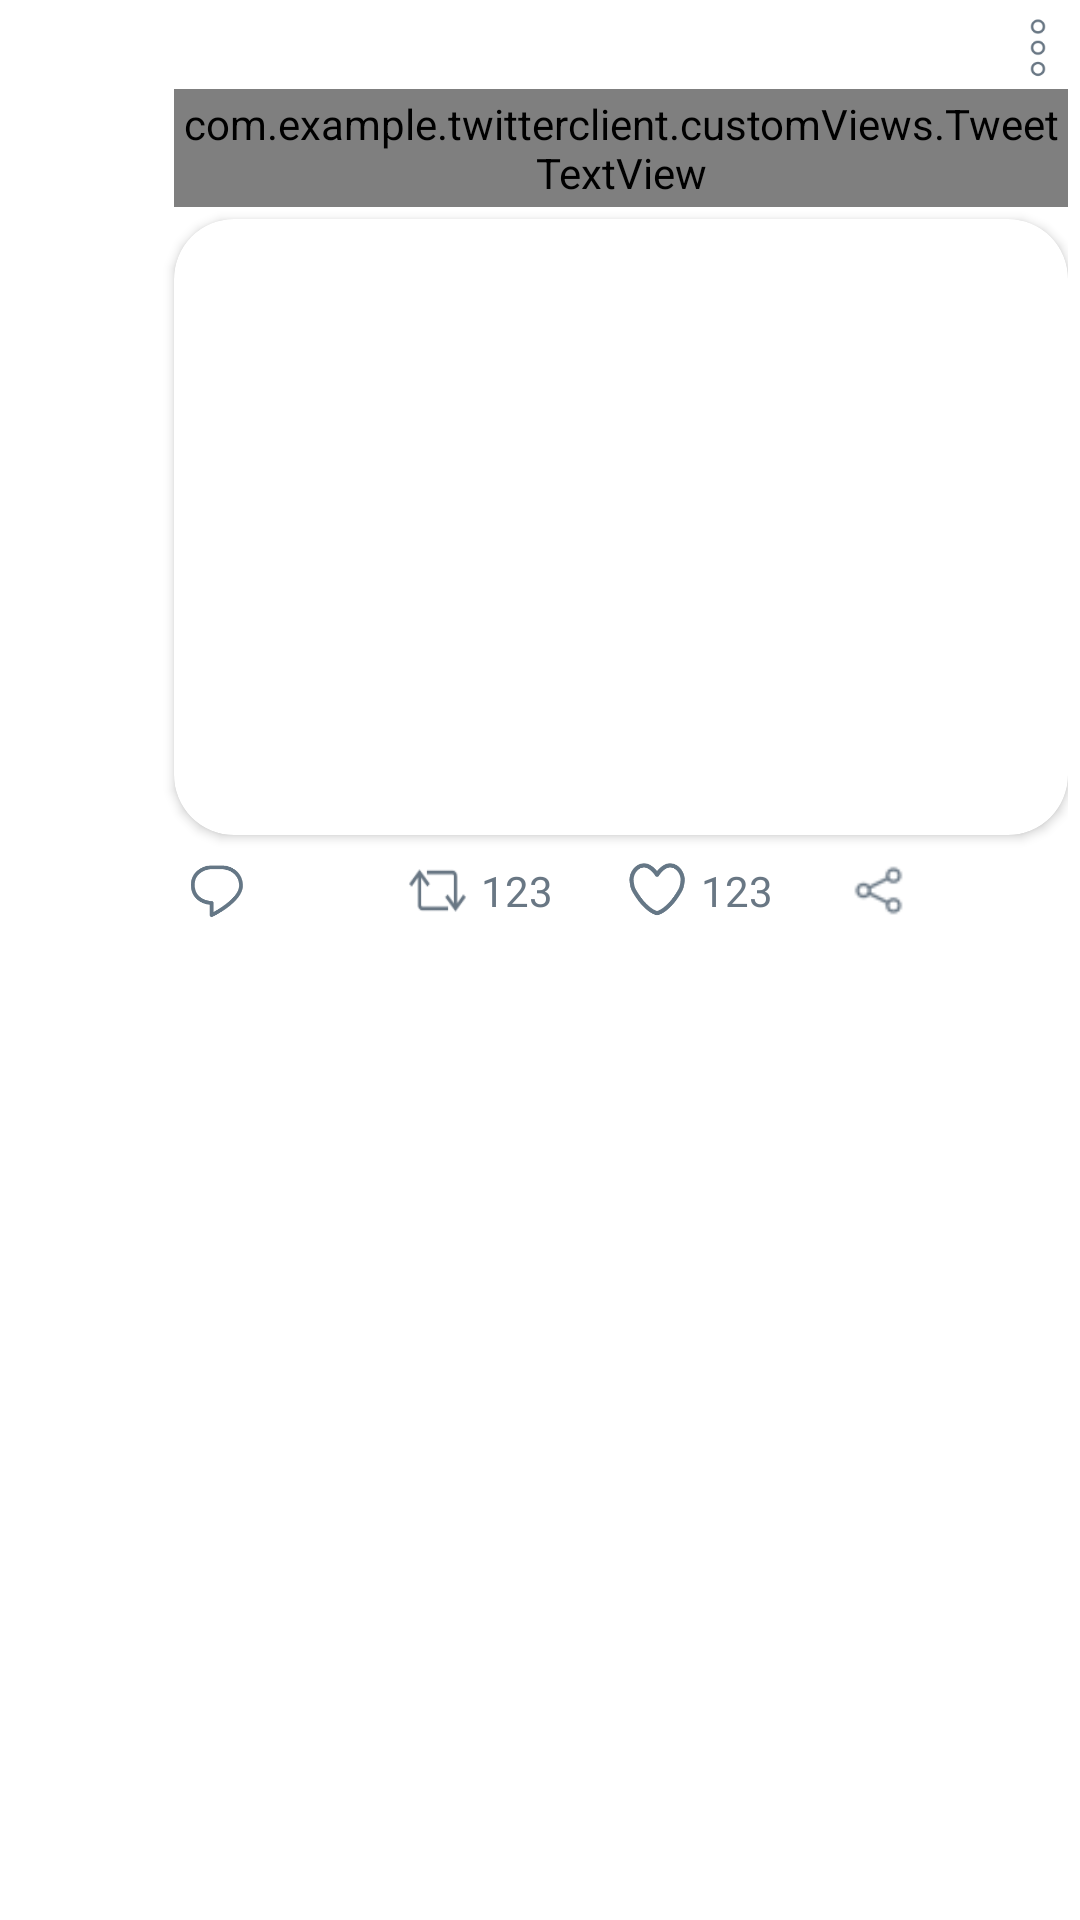

Screen size 1080w x 1920h. Icon name, then its center in pixels as point (x, y):
like: point (657, 889)
options: point (1038, 47)
reply: point (217, 891)
share: point (878, 890)
